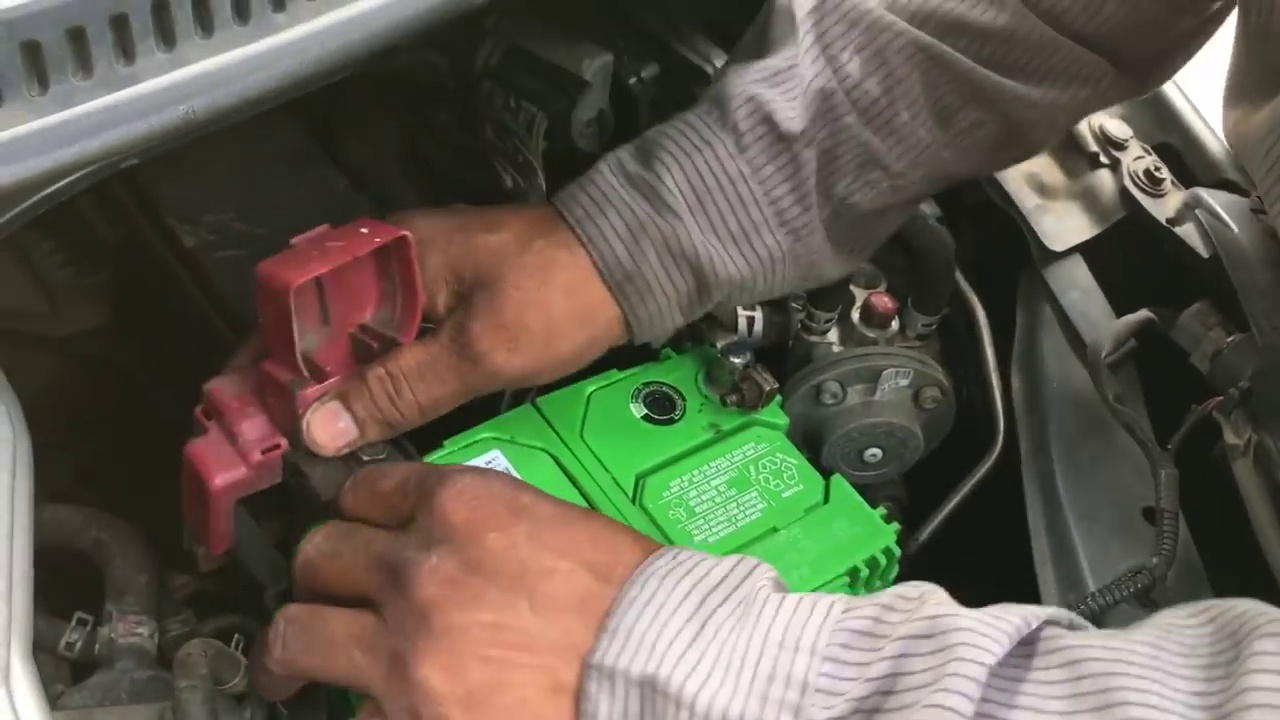battery: (412, 326, 912, 616)
neg_connected: (656, 253, 793, 421)
pos_touched: (223, 224, 456, 571)
